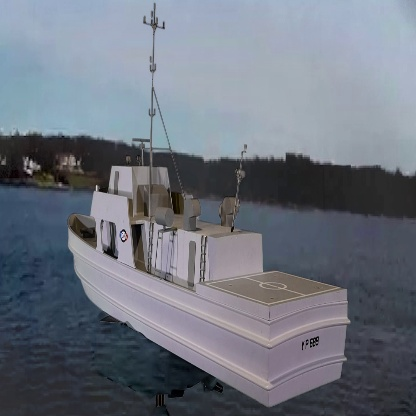YP689: (66, 6, 350, 411)
